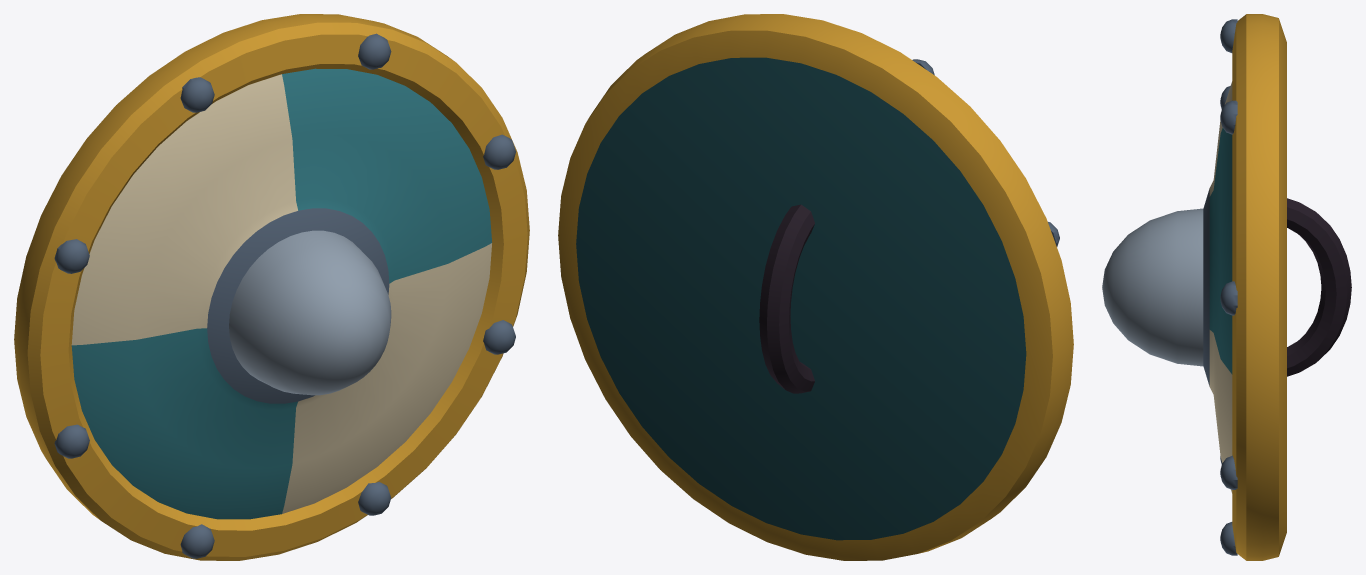
The model's file is RoundShield_01.glb.
The picture shows the model from 3 angles, left to right: view 1: azimuth 30°, elevation 25°; view 2: azimuth 150°, elevation 25°; view 3: azimuth 270°, elevation 25°; orthographic projection. The views are drawn at different scales.
Visible parts, largest first — view 1: RoundShield_01; view 2: RoundShield_01; view 3: RoundShield_01.
Part boxes in pixels (bbox=[...]): RoundShield_01: bbox=[14, 14, 529, 560]; RoundShield_01: bbox=[558, 14, 1073, 560]; RoundShield_01: bbox=[1102, 14, 1351, 560].
Bounding box in the file's own units: 2.7 × 2.7 × 1.23.
